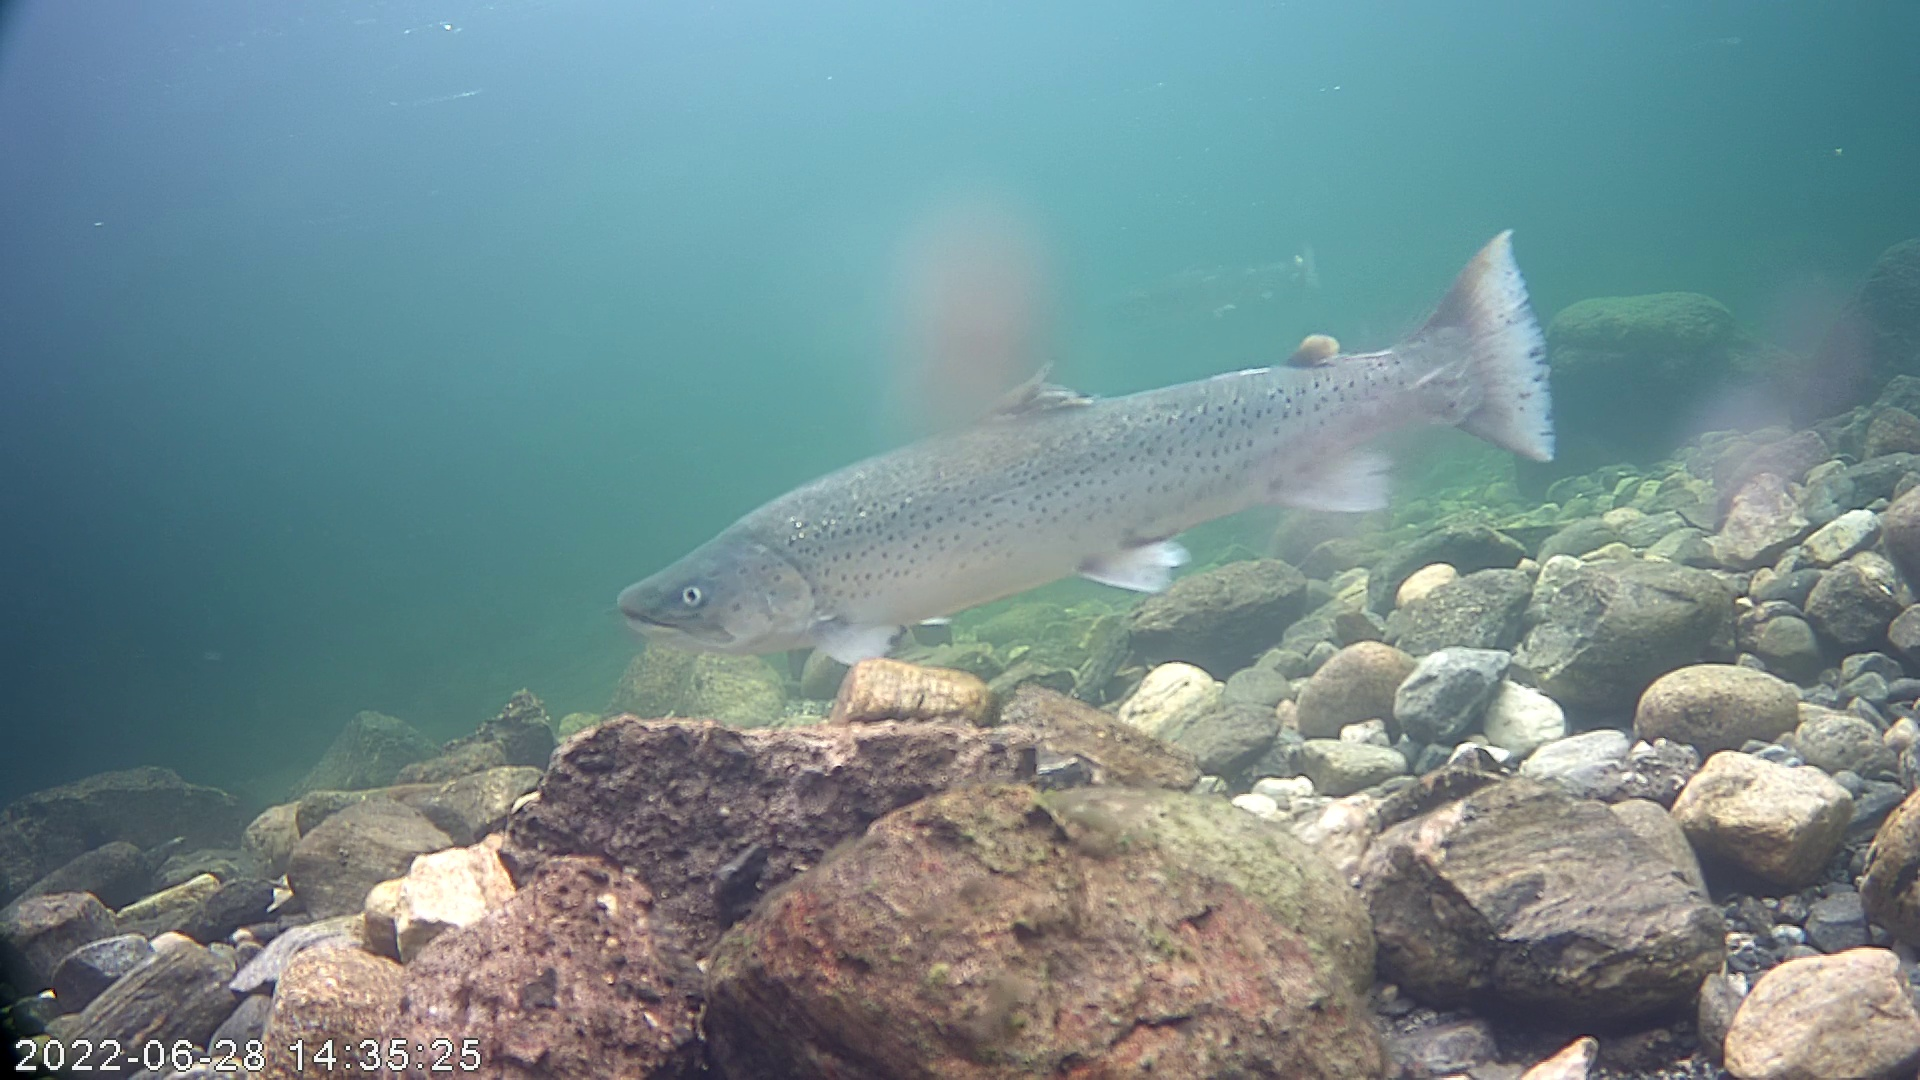salmon: (618, 206, 1582, 663)
